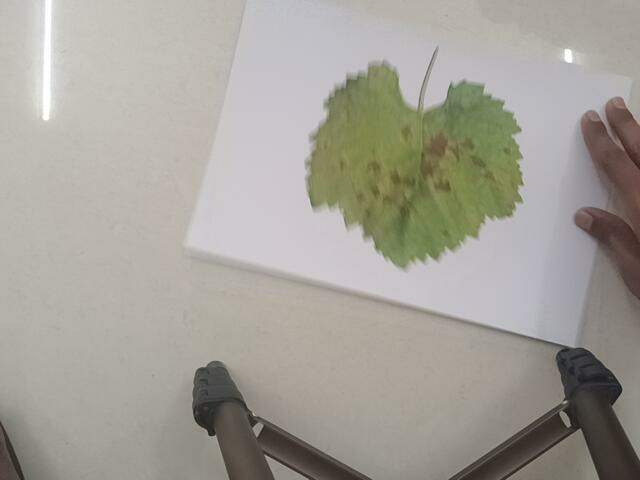Grape_Leaf_Vine_Disease: (289, 52, 529, 261)
